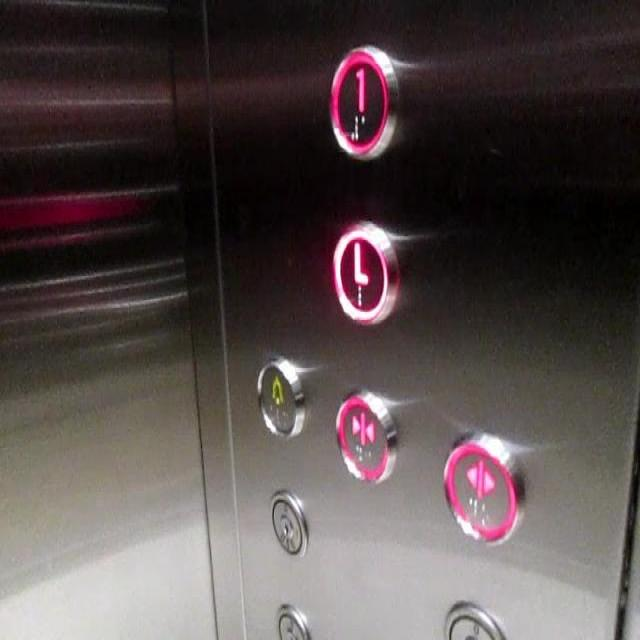1: (327, 41, 396, 159)
L: (329, 217, 397, 323)
alarm: (255, 356, 303, 439)
close: (332, 387, 396, 485)
keyhole: (266, 486, 307, 558)
open: (439, 431, 522, 544)
